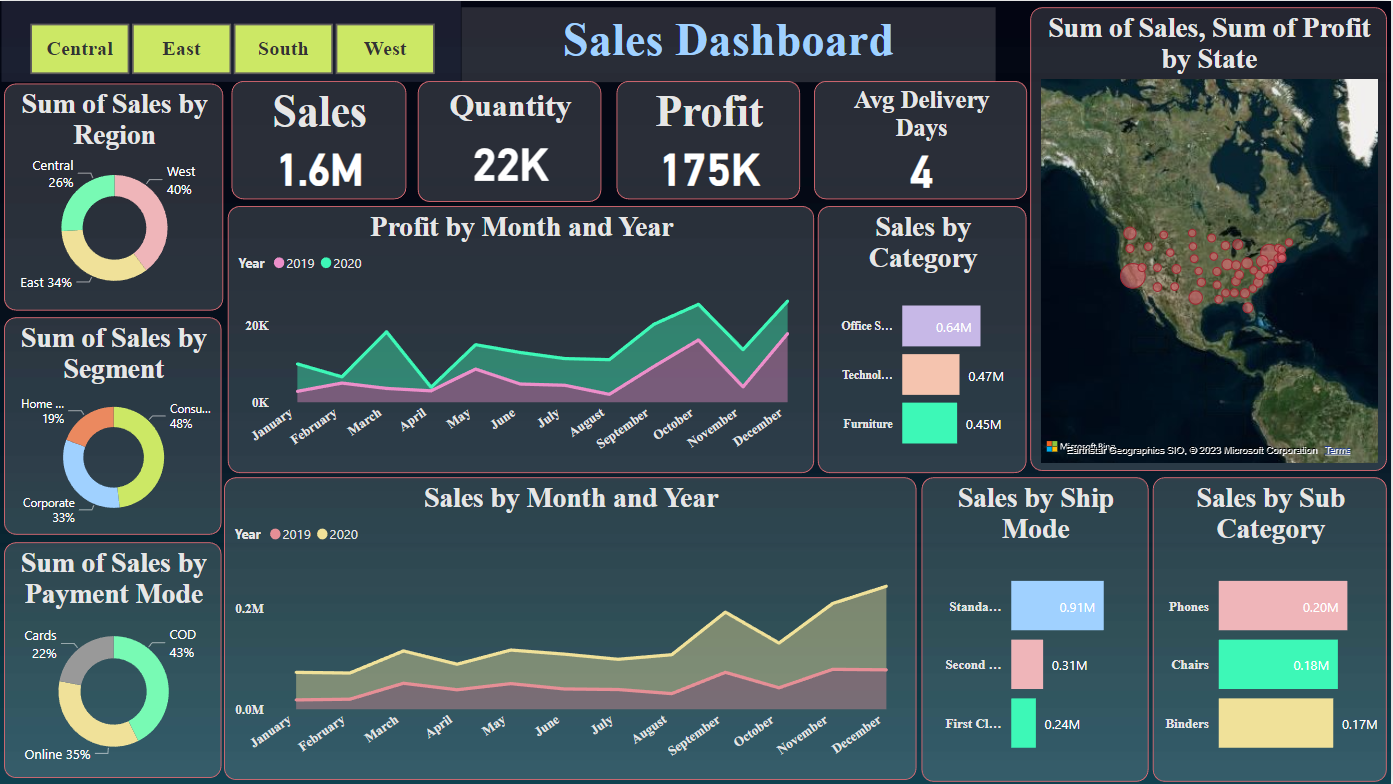

This screenshot's page, from the dashboard's own definition file:
{"tool":"powerbi","page":{"name":"Page 1","canvas":[1280,720],"ordinal":0},"visuals":[{"type":"clusteredBarChart","title":"Sales by Ship Mode ","fields":{"Category":["SuperStore_Sales_Dataset.Ship Mode"],"Y":["Sum(SuperStore_Sales_Dataset.Sales)"]},"box":[848,437.7,208.6,279.9],"z":0},{"type":"clusteredBarChart","title":"Sales by Sub Category","fields":{"Category":["SuperStore_Sales_Dataset.Sub-Category"],"Y":["Sum(SuperStore_Sales_Dataset.Sales)"]},"box":[1060.7,437.7,215.4,279.9],"z":1000},{"type":"clusteredBarChart","title":"Sales by Category","fields":{"Category":["SuperStore_Sales_Dataset.Category"],"Y":["Sum(SuperStore_Sales_Dataset.Sales)"]},"box":[753.3,188,192.1,245.6],"z":2000},{"type":"stackedAreaChart","title":"Sales by Month and Year","fields":{"Category":["SuperStore_Sales_Dataset.Order Date.Variation.Date Hierarchy.Month","SuperStore_Sales_Dataset.Order Date.Variation.Date Hierarchy.Day"],"Y":["Sum(SuperStore_Sales_Dataset.Sales)"],"Series":["SuperStore_Sales_Dataset.Order Date.Variation.Date Hierarchy.Year"]},"box":[207.2,437.7,636.7,278.6],"z":3000},{"type":"stackedAreaChart","title":"Profit by Month and Year","fields":{"Category":["SuperStore_Sales_Dataset.Order Date.Variation.Date Hierarchy.Month","SuperStore_Sales_Dataset.Order Date.Variation.Date Hierarchy.Day"],"Series":["SuperStore_Sales_Dataset.Order Date.Variation.Date Hierarchy.Year"],"Y":["Sum(SuperStore_Sales_Dataset.Profit)"]},"box":[209.9,188,539.3,245.6],"z":4000},{"type":"map","title":"Sum of Sales, Sum of Profit by State","fields":{"Category":["SuperStore_Sales_Dataset.State"],"Size":["Sum(SuperStore_Sales_Dataset.Sales)"]},"box":[948.2,5.5,328,426.8],"z":5000},{"type":"donutChart","fields":{"Category":["SuperStore_Sales_Dataset.Segment"],"Y":["Sum(SuperStore_Sales_Dataset.Sales)"]},"box":[4.1,290.9,200.3,200.3],"z":6000},{"type":"donutChart","fields":{"Category":["SuperStore_Sales_Dataset.Payment Mode"],"Y":["Sum(SuperStore_Sales_Dataset.Sales)"]},"box":[4.1,498.1,200.3,216.8],"z":7000},{"type":"donutChart","fields":{"Category":["SuperStore_Sales_Dataset.Region"],"Y":["Sum(SuperStore_Sales_Dataset.Sales)"]},"box":[4.1,75.5,201.7,208.6],"z":8000},{"type":"slicer","fields":{"Values":["SuperStore_Sales_Dataset.Region"]},"box":[2.7,0,422.6,74.1],"z":9000},{"type":"textbox","box":[425.4,5.5,491.3,68.6],"z":10000},{"type":"card","title":"Sales","fields":{"Values":["Sum(SuperStore_Sales_Dataset.Sales)"]},"box":[214.1,74.1,160.5,108.4],"z":11000},{"type":"card","title":"Quantity","fields":{"Values":["Sum(SuperStore_Sales_Dataset.Quantity)"]},"box":[385.6,74.1,168.8,111.1],"z":12000},{"type":"card","title":"Profit","fields":{"Values":["Sum(SuperStore_Sales_Dataset.Profit)"]},"box":[568.1,74.1,168.8,108.4],"z":13000},{"type":"card","title":"Avg  Delivery Days","fields":{"Values":["Avg(SuperStore_Sales_Dataset.AvgDelivery)"]},"box":[749.2,74.1,196.2,108.4],"z":14000}]}

Visuals, with their boxes in screenshot pixels (x1, y1, x2, y2), scaled from the page's 1280x720 canvas onto the 1393x784 screenshot:
"Sales by Ship Mode " clusteredBarChart: bbox(923, 477, 1150, 781)
"Sales by Sub Category" clusteredBarChart: bbox(1154, 477, 1389, 781)
"Sales by Category" clusteredBarChart: bbox(820, 205, 1029, 472)
"Sales by Month and Year" stackedAreaChart: bbox(225, 477, 918, 780)
"Profit by Month and Year" stackedAreaChart: bbox(228, 205, 815, 472)
"Sum of Sales, Sum of Profit by State" map: bbox(1032, 6, 1389, 471)
donutChart - SuperStore_Sales_Dataset.Segment x Sum(SuperStore_Sales_Dataset.Sales): bbox(4, 317, 222, 535)
donutChart - SuperStore_Sales_Dataset.Payment Mode x Sum(SuperStore_Sales_Dataset.Sales): bbox(4, 542, 222, 778)
donutChart - SuperStore_Sales_Dataset.Region x Sum(SuperStore_Sales_Dataset.Sales): bbox(4, 82, 224, 309)
slicer - SuperStore_Sales_Dataset.Region: bbox(3, 0, 463, 81)
textbox: bbox(463, 6, 998, 81)
"Sales" card: bbox(233, 81, 408, 199)
"Quantity" card: bbox(420, 81, 603, 202)
"Profit" card: bbox(618, 81, 802, 199)
"Avg  Delivery Days" card: bbox(815, 81, 1029, 199)
